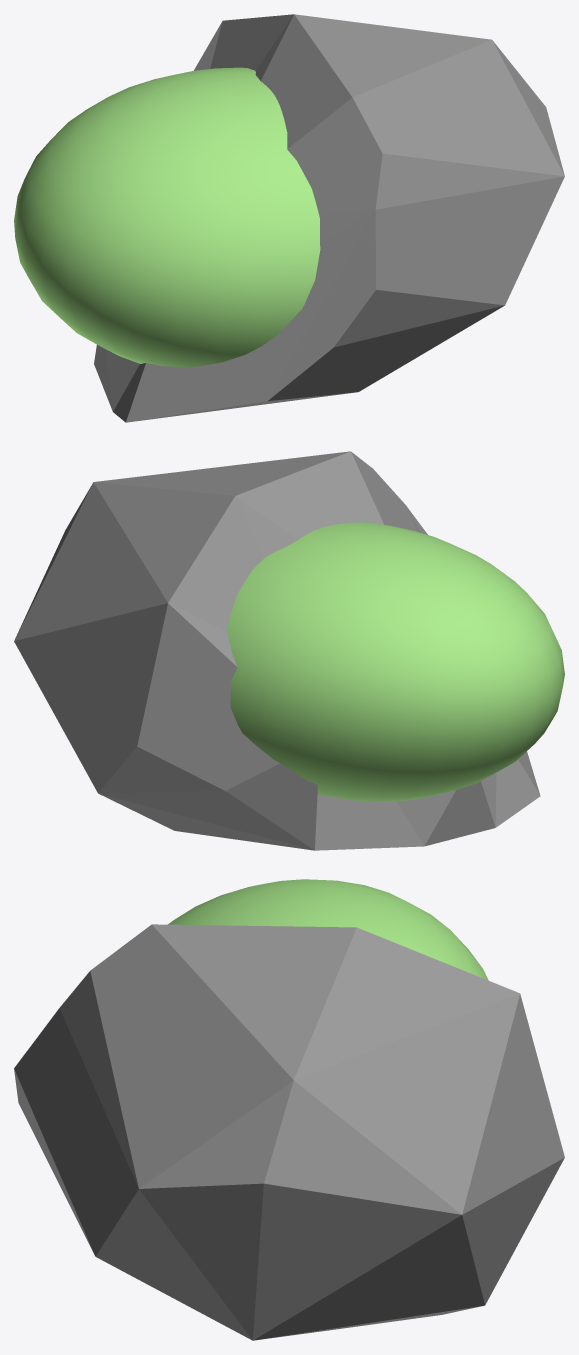
File: GreenJade.fbx
3 renders of one model, top to bottom at view 1: azimuth 30°, elevation 25°; view 2: azimuth 150°, elevation 25°; view 3: azimuth 270°, elevation 25°, orthographic. The views are drawn at different scales.
Parts seen in each view (by area): view 1: RedJade; view 2: RedJade; view 3: RedJade.
Boxes of the visible parts, <box> form: RedJade: <box>14,14,564,422</box>; RedJade: <box>14,451,564,850</box>; RedJade: <box>14,879,564,1340</box>.
Bounding box in the file's own units: 75.37 × 49.45 × 61.7.
